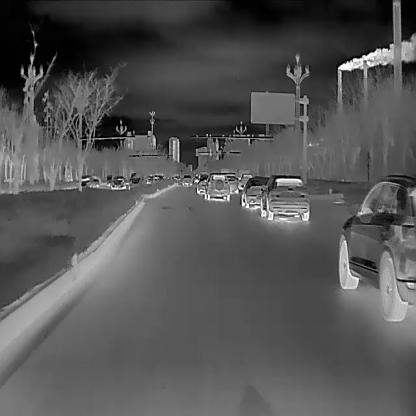car: (338, 172, 415, 322), (258, 173, 308, 221), (240, 176, 271, 207), (203, 171, 230, 200), (223, 172, 239, 194), (78, 174, 100, 188), (237, 172, 253, 190), (194, 175, 210, 193), (128, 171, 146, 187), (108, 174, 126, 189), (182, 174, 192, 184)
